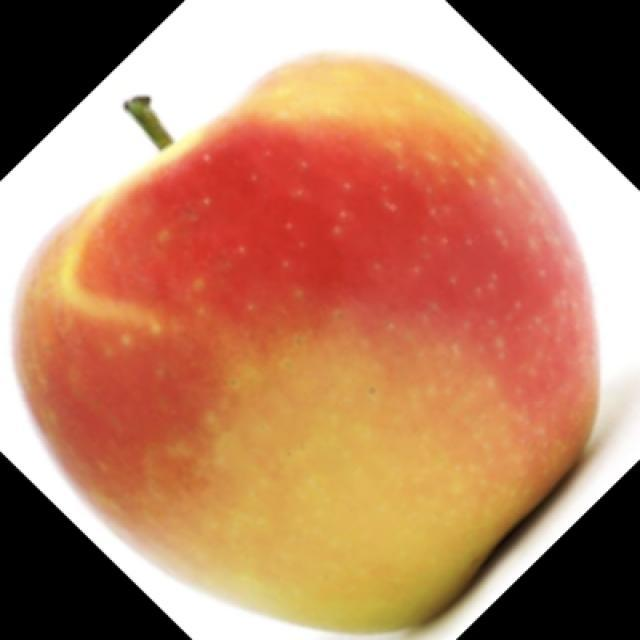Fresh Apple: (25, 60, 597, 620)
